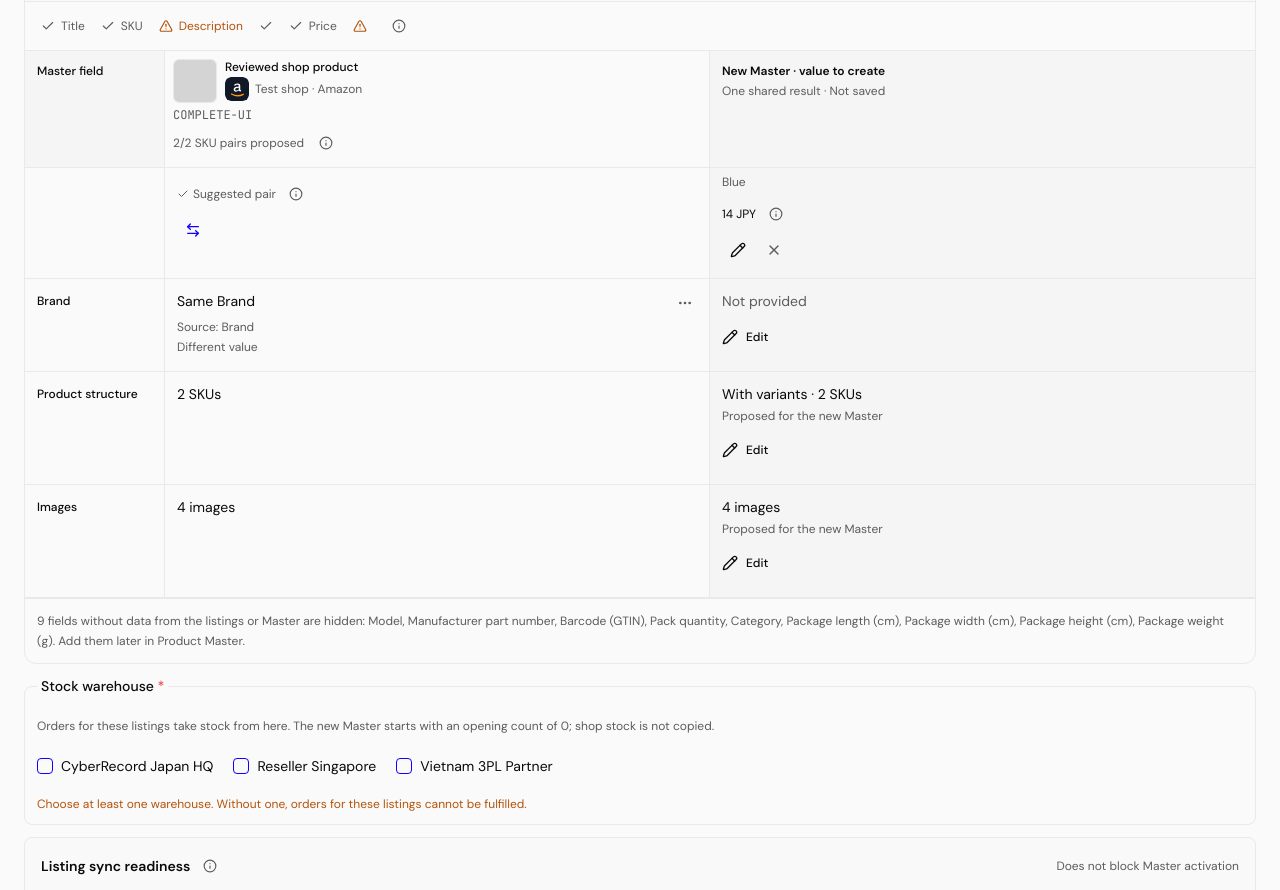
Scenario: Required details inside the listing drawer › restores SKU mappings and prices when a variant edit is cancelled
The width and height of the screenshot is (1280, 890).
(page scrolled)
Click the button "Edit" below "With variants · 2 SKUs": (745, 450) left=722, top=428, right=768, bottom=472
(page scrolled)
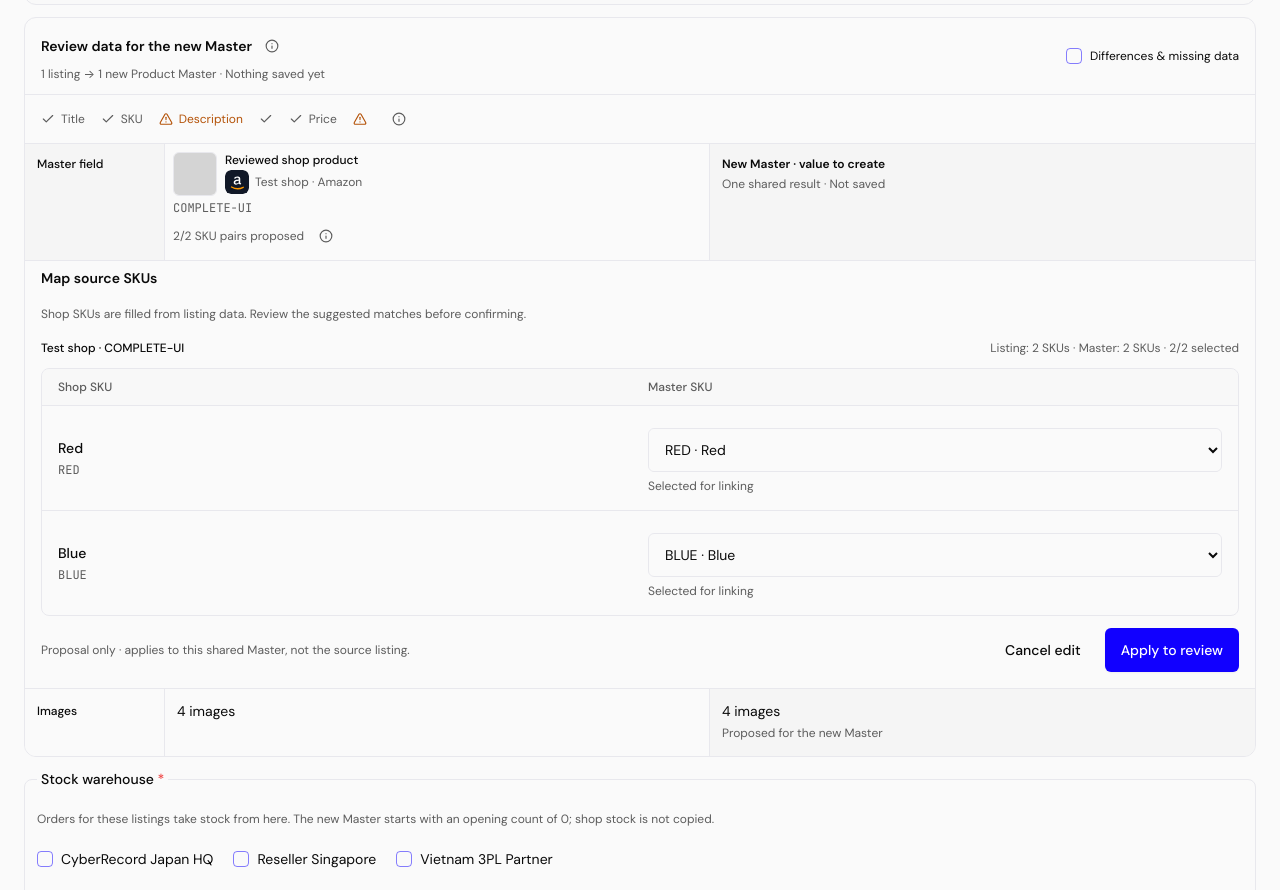
Select "Choose Master SKU" in the dropdown named "Master SKU for shop SKU 1": (935, 450) left=648, top=428, right=1222, bottom=472
(page scrolled)
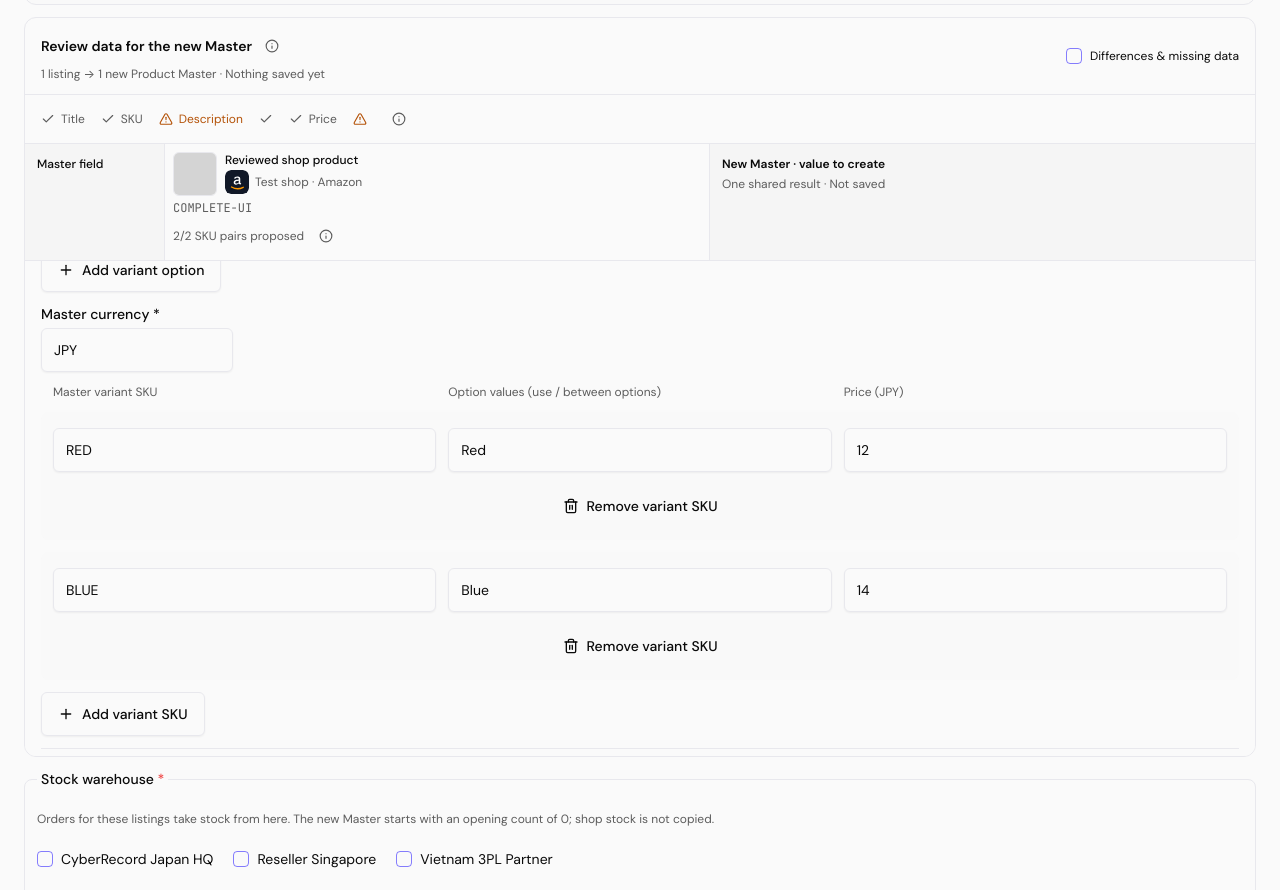
Replace the text in the 1st number field named "Price (JPY)" with "900": (1035, 450) left=844, top=428, right=1227, bottom=472
(page scrolled)
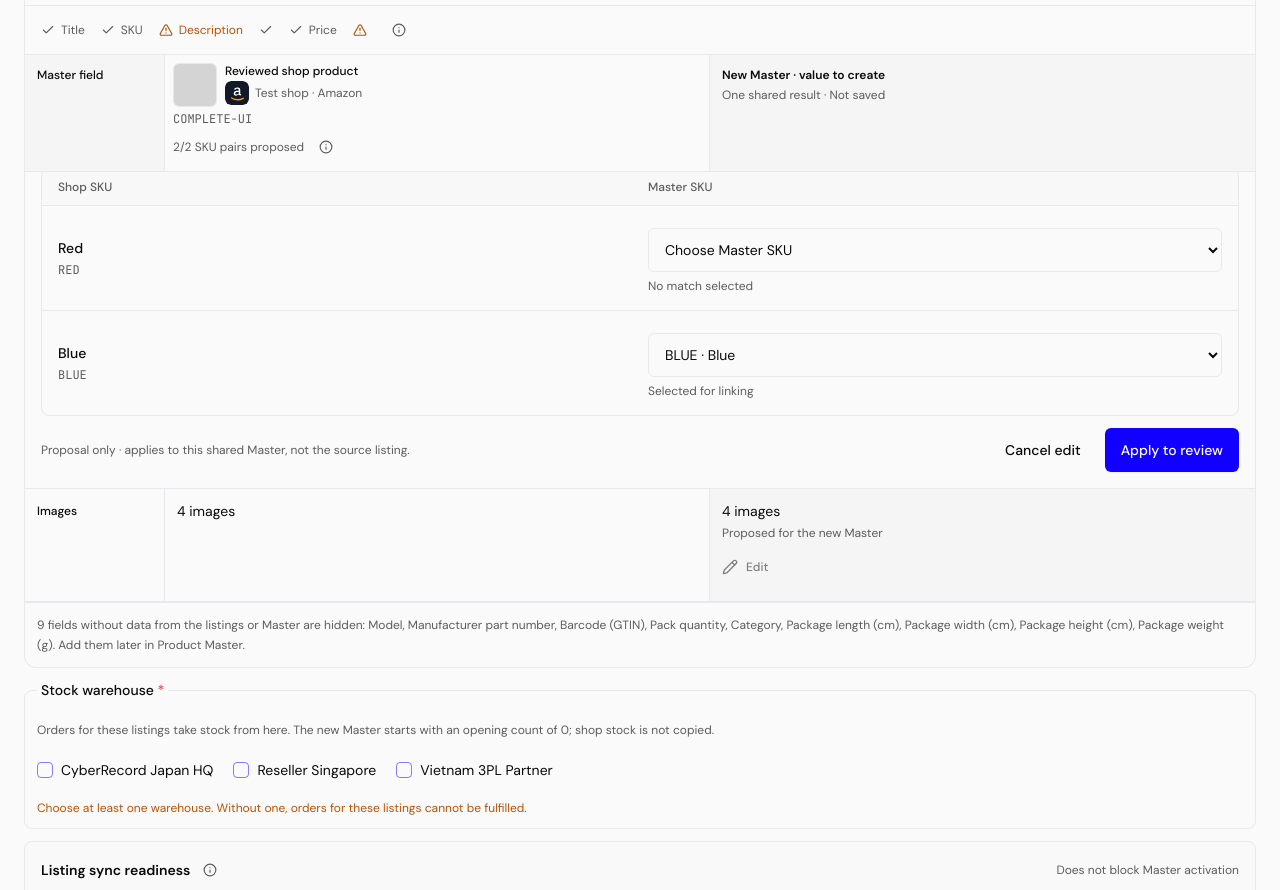
Click the button "Cancel edit": (1043, 450) left=989, top=428, right=1097, bottom=472
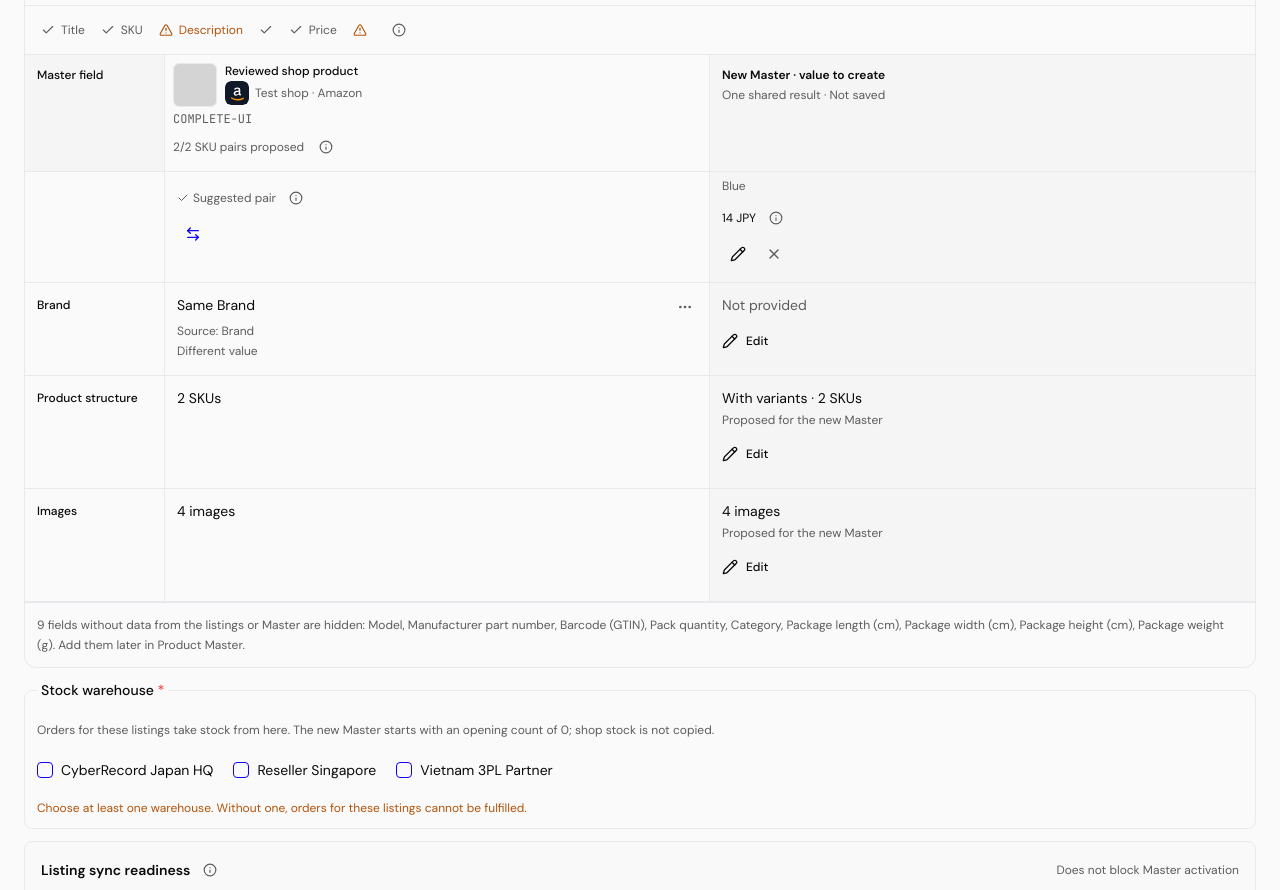
Expected: the text "Suggested pair" is shown 2 times
Click the button "Edit" below "With variants · 2 SKUs": (745, 454) left=722, top=432, right=768, bottom=476
(page scrolled)
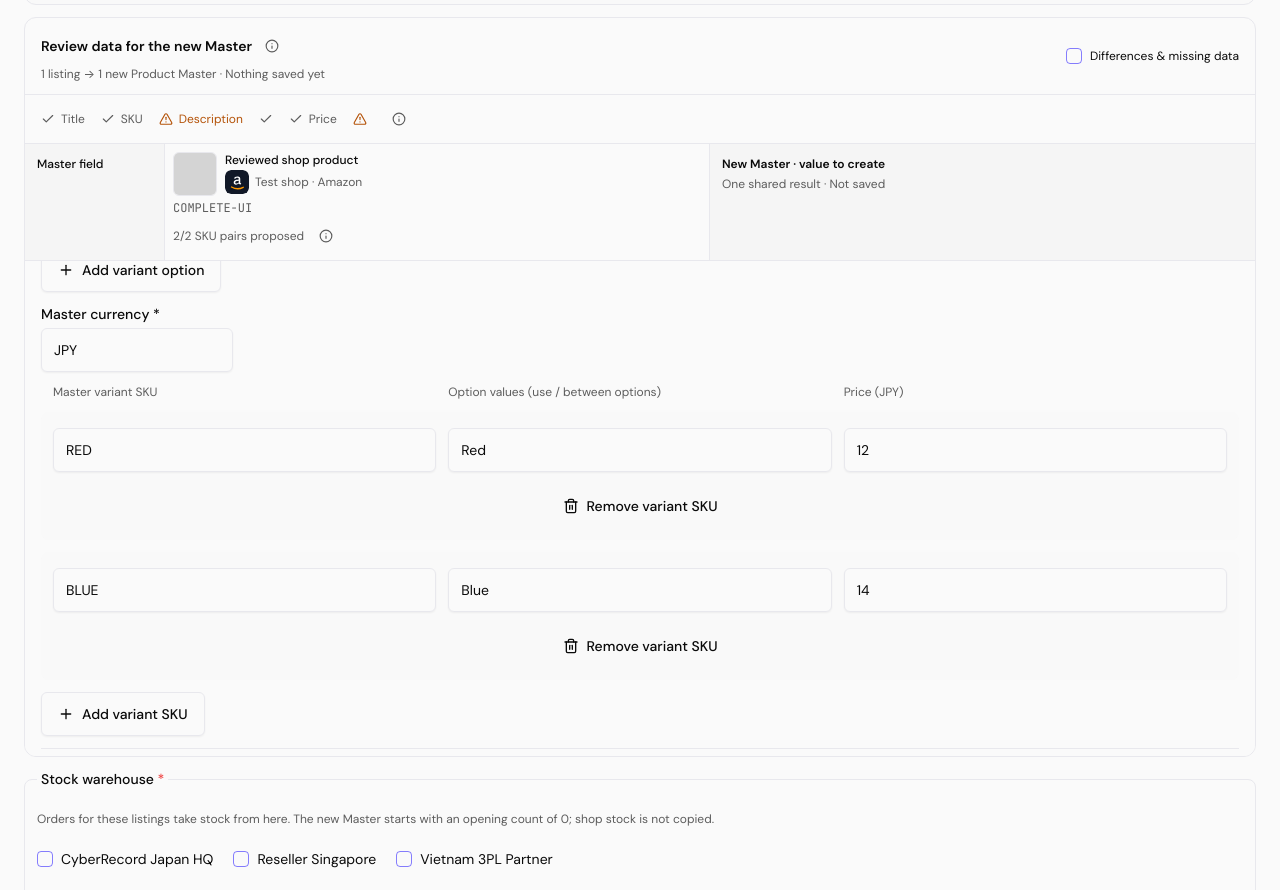
Expected: the 1st number field named "Price (JPY)" holds "12", left=844, top=428, right=1227, bottom=472
